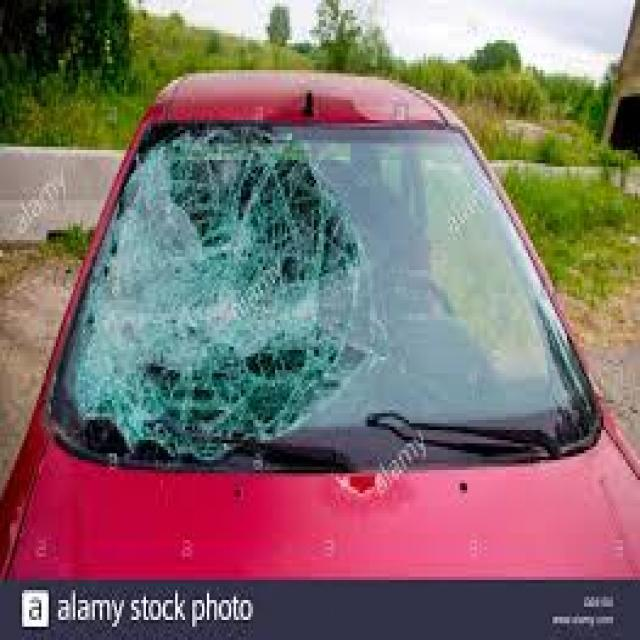damaged-windscreen: (55, 127, 593, 467)
